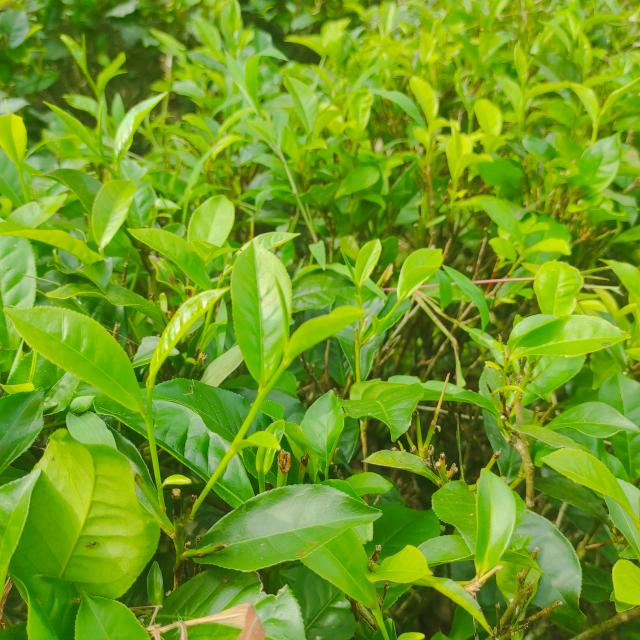unopened_leaf: (265, 264, 294, 357), (332, 242, 364, 295), (91, 97, 112, 157)
